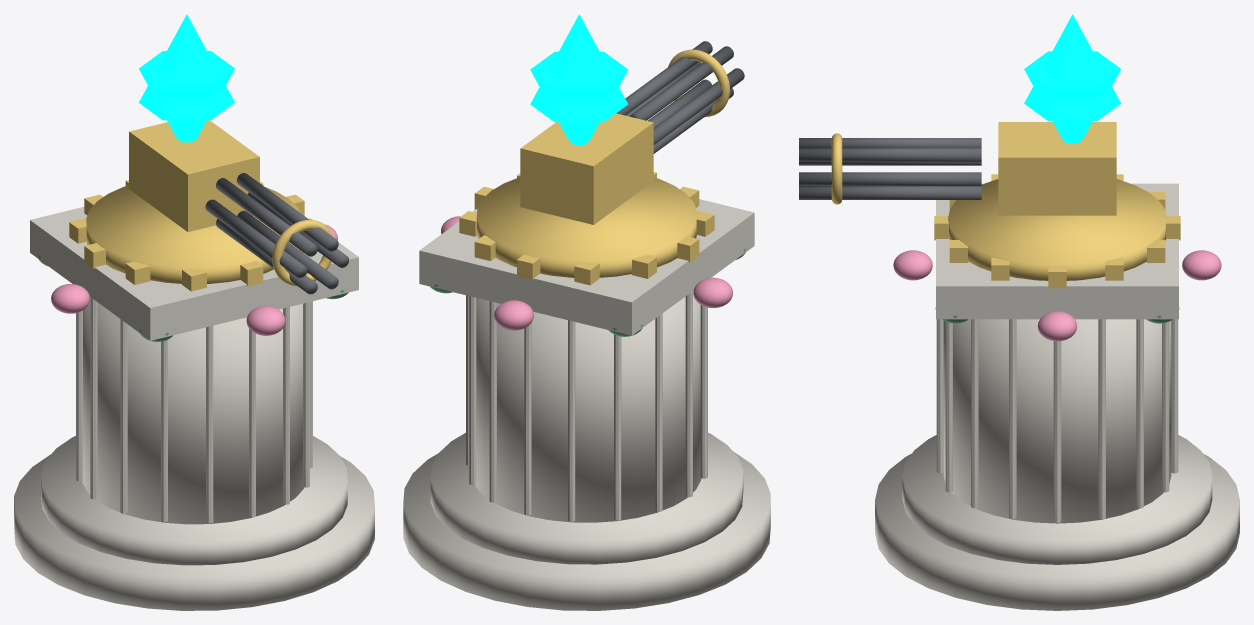
File: tower_prism_gatling.glb
3 renders of one model, left to right at view 1: azimuth 30°, elevation 25°; view 2: azimuth 150°, elevation 25°; view 3: azimuth 270°, elevation 25°, orthographic.
Parts seen in each view (by area): view 1: Cylinder.002, Cylinder, Cylinder.001, Cube, Cube.013, Cylinder.019, Cone, Cone.001, Cylinder.011, Cylinder.022, Cylinder.014, Cylinder.023 (+17 smaller); view 2: Cylinder.002, Cylinder, Cylinder.001, Cube, Cylinder.019, Cube.013, Cone, Cone.001, Cylinder.011, Cylinder.008, Cylinder.006, Cylinder.010 (+16 smaller); view 3: Cylinder.002, Cylinder, Cylinder.001, Cylinder.019, Cube, Cube.013, Cone, Cone.001, Cylinder.020, Cylinder.021, Cylinder.025, Cylinder.022 (+14 smaller).
Part boxes in pixels (x1,y1,x2,y2): Cylinder.002: [82, 297, 304, 524]; Cylinder: [14, 454, 374, 610]; Cylinder.001: [41, 436, 347, 565]; Cube: [30, 207, 358, 340]; Cube.013: [129, 120, 259, 231]; Cylinder.019: [86, 185, 300, 283]; Cone: [139, 14, 234, 120]; Cone.001: [139, 51, 234, 142]; Cylinder.011: [90, 297, 97, 499]; Cylinder.022: [216, 178, 317, 256]; Cylinder.014: [206, 325, 213, 523]; Cylinder.023: [205, 199, 307, 277]; Cylinder.002: [475, 291, 701, 522]; Cylinder: [403, 451, 770, 610]; Cylinder.001: [430, 432, 743, 564]; Cube: [419, 199, 754, 335]; Cylinder.019: [476, 177, 697, 277]; Cube.013: [520, 113, 653, 224]; Cone: [530, 14, 628, 122]; Cone.001: [530, 51, 628, 144]; Cylinder.011: [685, 291, 692, 497]; Cylinder.008: [568, 320, 575, 521]; Cylinder.006: [489, 301, 496, 502]; Cylinder.010: [655, 313, 662, 511]; Cylinder.002: [943, 319, 1171, 523]; Cylinder: [875, 454, 1239, 610]; Cylinder.001: [902, 435, 1212, 564]; Cylinder.019: [948, 179, 1166, 280]; Cube: [936, 183, 1178, 319]; Cube.013: [998, 122, 1116, 215]; Cone: [1024, 14, 1120, 121]; Cone.001: [1024, 51, 1120, 143]; Cylinder.020: [799, 172, 981, 185]; Cylinder.021: [799, 148, 981, 161]; Cylinder.025: [799, 186, 981, 199]; Cylinder.022: [799, 138, 981, 148].
Bounding box in the file's own units: 2.4 × 3.78 × 2.9.
